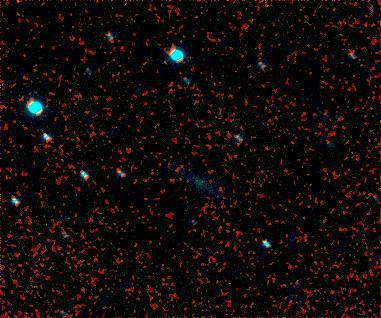star: (206, 174, 236, 204)
